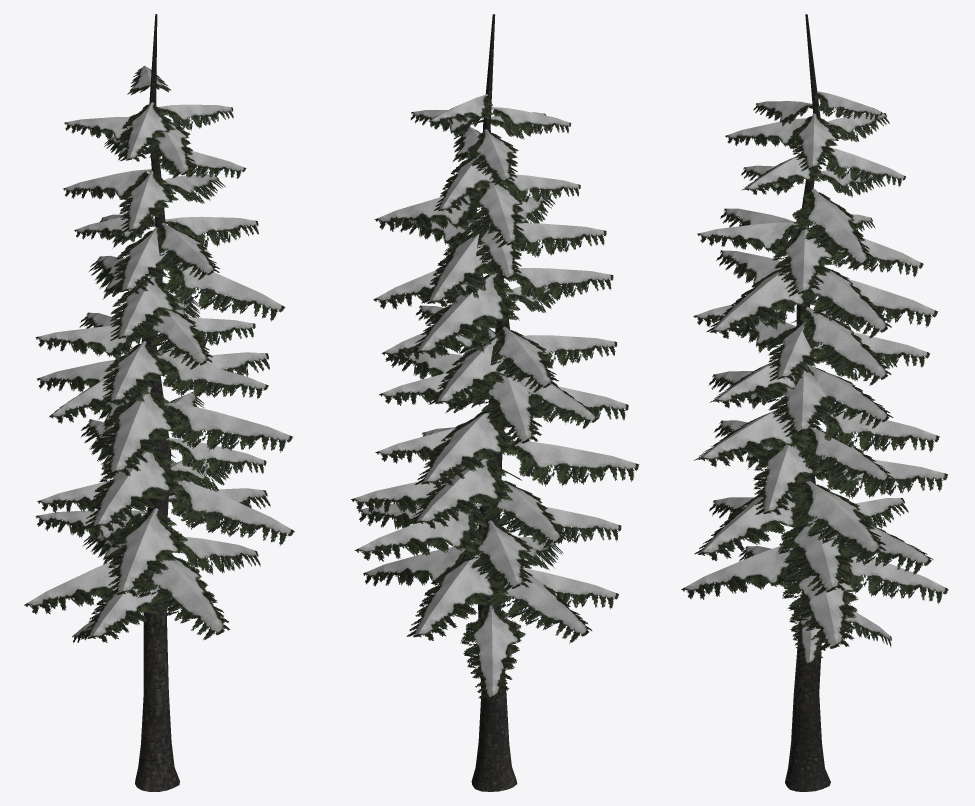
File: tree_4.obj
The picture shows the model from 3 angles, left to right: view 1: azimuth 30°, elevation 25°; view 2: azimuth 150°, elevation 25°; view 3: azimuth 270°, elevation 25°; orthographic projection.
Visible parts, largest first — view 1: tree_4; view 2: tree_4; view 3: tree_4.
Part boxes in pixels (bbox=[...]): tree_4: bbox=[24, 14, 294, 791]; tree_4: bbox=[351, 14, 639, 791]; tree_4: bbox=[681, 14, 948, 791].
Bounding box in the file's own units: 1.7 × 4.96 × 1.69.
